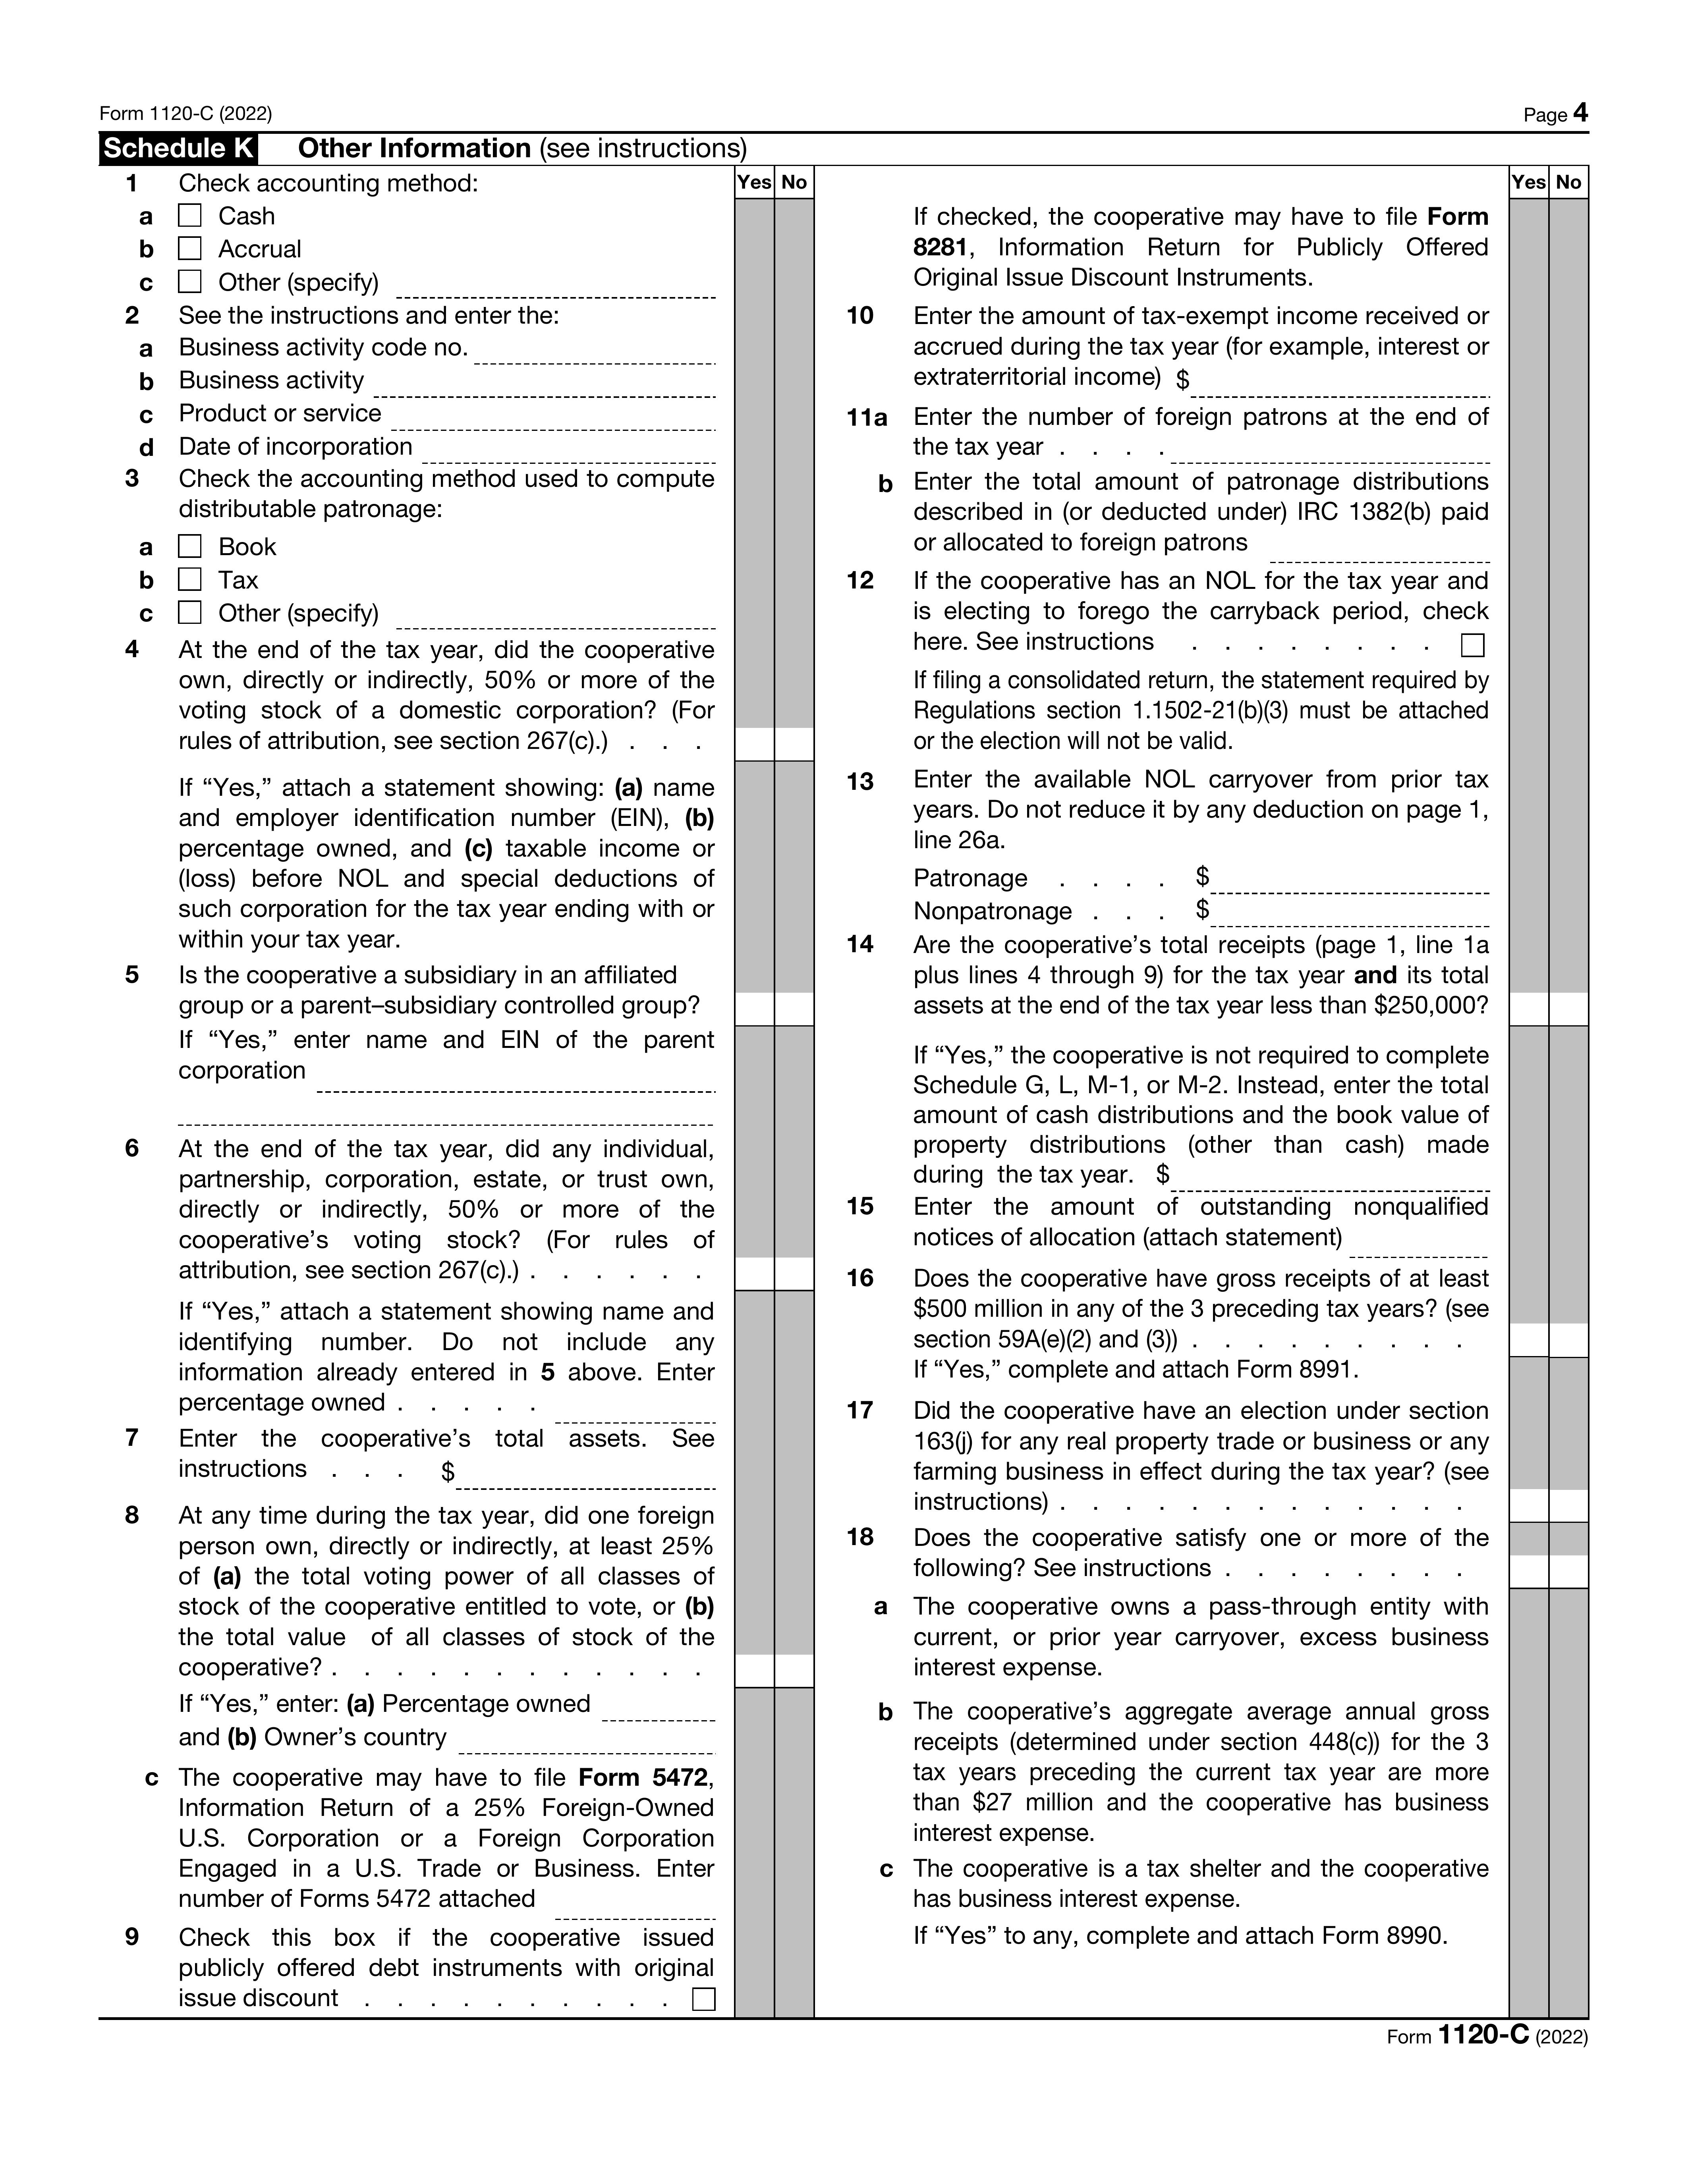table: (833, 163, 1605, 2024), (98, 165, 835, 2019)
